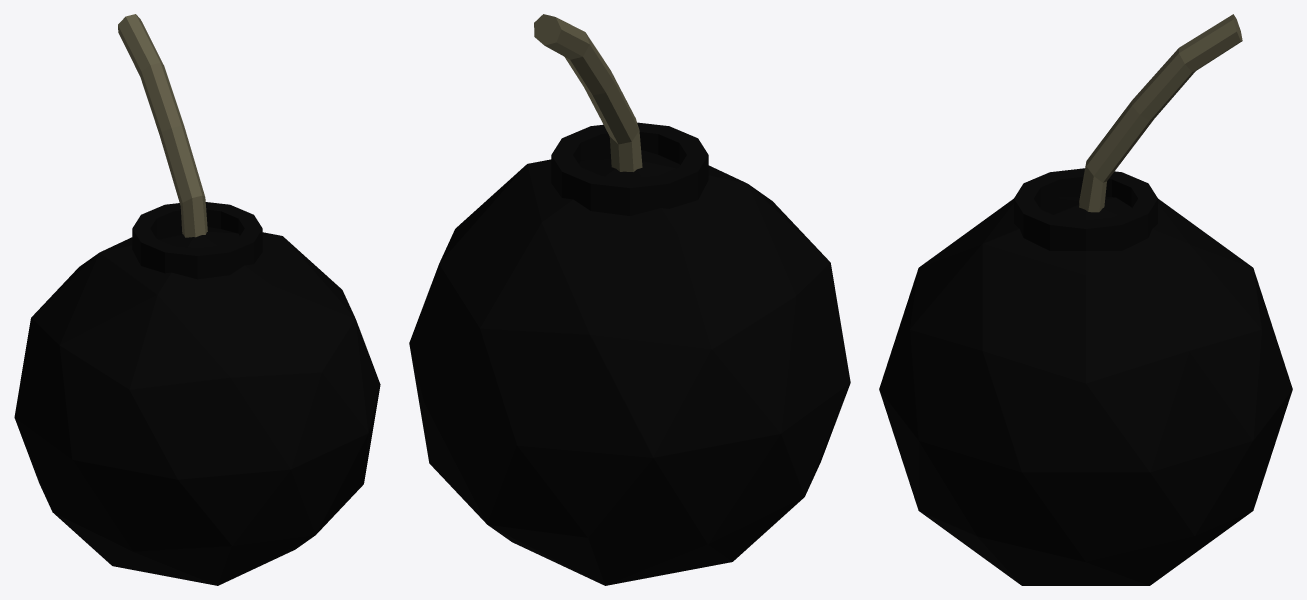
The model's file is Bomb.fbx.
3 renders of one model, left to right at view 1: azimuth 30°, elevation 25°; view 2: azimuth 150°, elevation 25°; view 3: azimuth 270°, elevation 25°, orthographic. The views are drawn at different scales.
Parts seen in each view (by area): view 1: Icosphere, Cylinder.001; view 2: Icosphere, Cylinder.001; view 3: Icosphere, Cylinder.001.
Boxes of the visible parts, x1=… form: Icosphere: x1=14, y1=202, x2=380, y2=585; Cylinder.001: x1=118, y1=14, x2=207, y2=237; Icosphere: x1=409, y1=122, x2=850, y2=585; Cylinder.001: x1=534, y1=14, x2=642, y2=171; Icosphere: x1=879, y1=168, x2=1292, y2=585; Cylinder.001: x1=1079, y1=14, x2=1242, y2=212.
Size of the model in its own units: 158 by 248 by 166.
